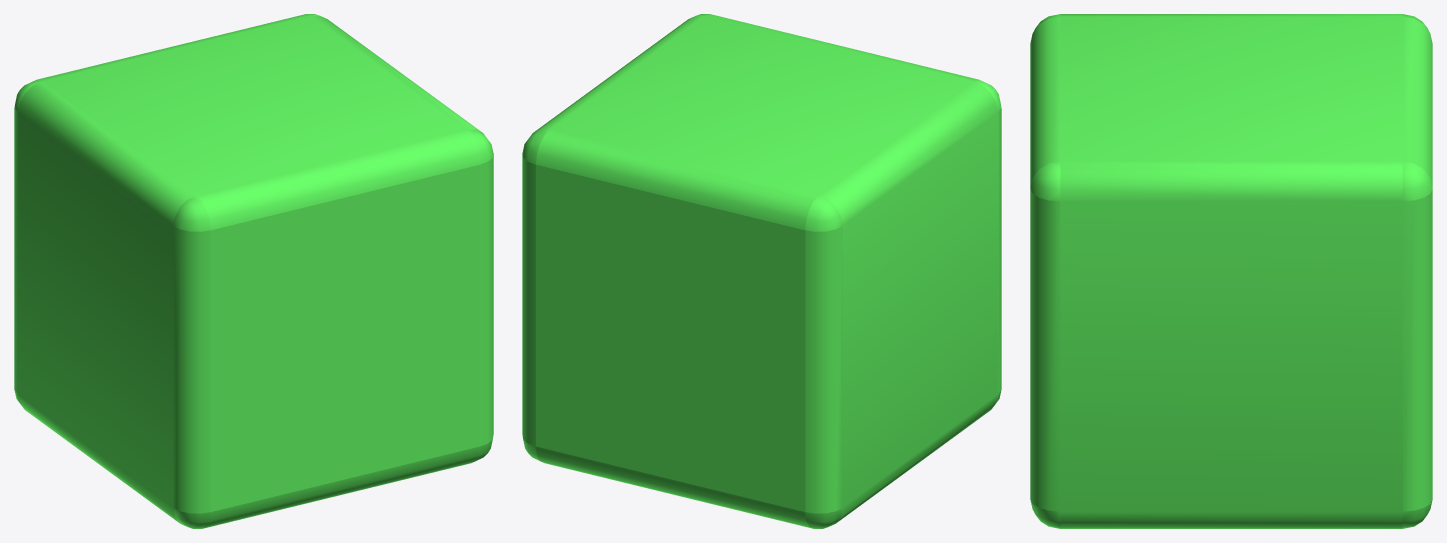
File: Ground.obj
3 views of the same model, side by side, from view 1: azimuth 30°, elevation 25°; view 2: azimuth 150°, elevation 25°; view 3: azimuth 270°, elevation 25° (orthographic). The views are drawn at different scales.
Visible parts, largest first — view 1: Ground; view 2: Ground; view 3: Ground.
Part boxes in pixels (box(x1,y1,x2,y2)): Ground: box(14, 14, 493, 528); Ground: box(522, 14, 1001, 528); Ground: box(1030, 14, 1432, 528).
Size of the model in its own units: 2 by 2 by 2.
